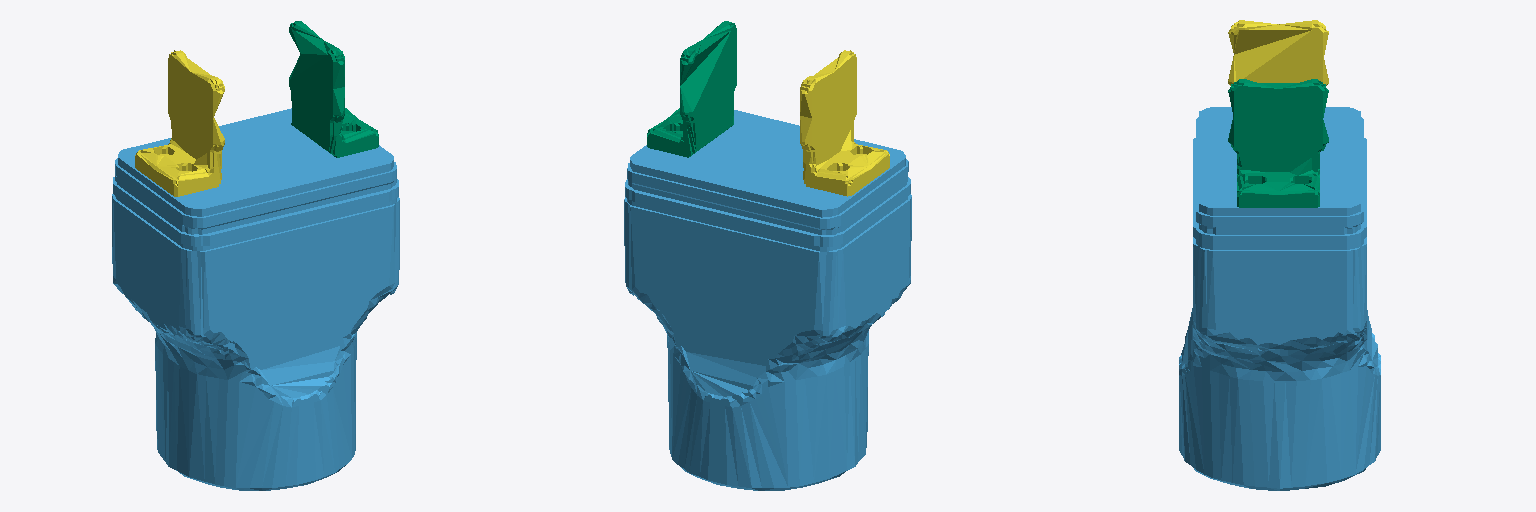
robot.urdf — iiwa14:
<?xml version="1.0" ?>
<!-- =================================================================================== -->
<!-- |    This document was autogenerated by xacro from urdf/iiwa14.urdf.xacro         | -->
<!-- |    EDITING THIS FILE BY HAND IS NOT RECOMMENDED                                 | -->
<!-- =================================================================================== -->
<robot name="iiwa14">
  <link name="base_link"/>
  <joint name="base_joint" type="fixed">
    <origin rpy="0 0 0" xyz="0 0 0"/>
    <parent link="base_link"/>
    <child link="link_0"/>
  </joint>
  <link name="link_0">
    <inertial>
      <origin rpy="0 0 0" xyz="-0.1 0 0.07"/>
      <mass value="5"/>
      <inertia ixx="0.05" ixy="0" ixz="0" iyy="0.06" iyz="0" izz="0.03"/>
    </inertial>
    <visual>
      <origin rpy="0 0 0" xyz="0 0 0"/>
      <geometry>
        <mesh filename="meshes/visual/link_0.stl"/>
      </geometry>
    </visual>
    <collision>
      <origin rpy="0 0 0" xyz="0 0 0"/>
      <geometry>
        <mesh filename="meshes/collision/link_0_s.stl"/>
      </geometry>
    </collision>
    <self_collision_checking>
      <origin rpy="0 0 0" xyz="0 0 0"/>
      <geometry>
        <capsule length="0.25" radius="0.15"/>
      </geometry>
    </self_collision_checking>
  </link>
  <!-- joint between link_0 and link_1 -->
  <joint name="joint_0" type="revolute">
    <parent link="link_0"/>
    <child link="link_1"/>
    <origin rpy="0 0 0" xyz="0 0 0.17"/>
    <axis xyz="0 0 1"/>
    <limit effort="300" lower="-2.9670597283903604" upper="2.9670597283903604" velocity="10"/>
    <safety_controller k_position="100" k_velocity="2" soft_lower_limit="-2.9321531433504737" soft_upper_limit="2.9321531433504737"/>
    <dynamics damping="0.0" friction="0.0"/>
  </joint>
  <link name="link_1">
    <inertial>
      <origin rpy="0 0 0" xyz="0 -0.03 0.12"/>
      <mass value="4"/>
      <inertia ixx="0.1" ixy="0" ixz="0" iyy="0.09" iyz="0" izz="0.02"/>
    </inertial>
    <visual>
      <origin rpy="0 0 0" xyz="0 0 0"/>
      <geometry>
        <mesh filename="meshes/visual/link_1.stl"/>
      </geometry>
    </visual>
    <collision>
      <origin rpy="0 0 0" xyz="0 0 0"/>
      <geometry>
        <mesh filename="meshes/collision/link_1_s.stl"/>
      </geometry>
    </collision>
  </link>
  <!-- joint between link_1 and link_2 -->
  <joint name="joint_1" type="revolute">
    <parent link="link_1"/>
    <child link="link_2"/>
    <origin rpy="1.5707963267948966   0 3.141592653589793" xyz="0 0 0.2025"/>
    <axis xyz="0 0 1"/>
    <limit effort="300" lower="-2.0943951023931953" upper="2.0943951023931953" velocity="10"/>
    <safety_controller k_position="100" k_velocity="2" soft_lower_limit="-2.0594885173533086" soft_upper_limit="2.0594885173533086"/>
    <dynamics damping="0.0" friction="0.0"/>
  </joint>
  <link name="link_2">
    <inertial>
      <origin rpy="0 0 0" xyz="0.0003 0.059 0.042"/>
      <mass value="4"/>
      <inertia ixx="0.05" ixy="0" ixz="0" iyy="0.018" iyz="0" izz="0.044"/>
    </inertial>
    <visual>
      <origin rpy="0 0 0" xyz="0 0 0"/>
      <geometry>
        <mesh filename="meshes/visual/link_2.stl"/>
      </geometry>
    </visual>
    <collision>
      <origin rpy="0 0 0" xyz="0 0 0"/>
      <geometry>
        <mesh filename="meshes/collision/link_2_s.stl"/>
      </geometry>
    </collision>
  </link>
  <!-- joint between link_2 and link_3 -->
  <joint name="joint_2" type="revolute">
    <parent link="link_2"/>
    <child link="link_3"/>
    <origin rpy="1.5707963267948966 0 3.141592653589793" xyz="0 0.2045 0"/>
    <axis xyz="0 0 1"/>
    <limit effort="300" lower="-2.9670597283903604" upper="2.9670597283903604" velocity="10"/>
    <safety_controller k_position="100" k_velocity="2" soft_lower_limit="-2.9321531433504737" soft_upper_limit="2.9321531433504737"/>
    <dynamics damping="0.0" friction="0.0"/>
  </joint>
  <link name="link_3">
    <inertial>
      <origin rpy="0 0 0" xyz="0 0.03 0.13"/>
      <mass value="3"/>
      <inertia ixx="0.08" ixy="0" ixz="0" iyy="0.075" iyz="0" izz="0.01"/>
    </inertial>
    <visual>
      <origin rpy="0 0 0" xyz="0 0 0"/>
      <geometry>
        <mesh filename="meshes/visual/link_3.stl"/>
      </geometry>
    </visual>
    <collision>
      <origin rpy="0 0 0" xyz="0 0 0"/>
      <geometry>
        <mesh filename="meshes/collision/link_3_s.stl"/>
      </geometry>
    </collision>
  </link>
  <!-- joint between link_3 and link_4 -->
  <joint name="joint_3" type="revolute">
    <parent link="link_3"/>
    <child link="link_4"/>
    <origin rpy="1.5707963267948966 0 0" xyz="0 0 0.2155"/>
    <axis xyz="0 0 1"/>
    <limit effort="300" lower="-2.0943951023931953" upper="2.0943951023931953" velocity="10"/>
    <safety_controller k_position="100" k_velocity="2" soft_lower_limit="-2.0594885173533086" soft_upper_limit="2.0594885173533086"/>
    <dynamics damping="0.0" friction="0.0"/>
  </joint>
  <link name="link_4">
    <inertial>
      <origin rpy="0 0 0" xyz="0 0.067 0.034"/>
      <mass value="2.7"/>
      <inertia ixx="0.03" ixy="0" ixz="0" iyy="0.01" iyz="0" izz="0.029"/>
    </inertial>
    <visual>
      <origin rpy="0 0 0" xyz="0 0 0"/>
      <geometry>
        <mesh filename="meshes/visual/link_4.stl"/>
      </geometry>
    </visual>
    <collision>
      <origin rpy="0 0 0" xyz="0 0 0"/>
      <geometry>
        <mesh filename="meshes/collision/link_4_s.stl"/>
      </geometry>
    </collision>
  </link>
  <!-- joint between link_4 and link_5 -->
  <joint name="joint_4" type="revolute">
    <parent link="link_4"/>
    <child link="link_5"/>
    <origin rpy="-1.5707963267948966 3.141592653589793 0" xyz="0 0.1845 0"/>
    <axis xyz="0 0 1"/>
    <limit effort="300" lower="-2.9670597283903604" upper="2.9670597283903604" velocity="10"/>
    <safety_controller k_position="100" k_velocity="2" soft_lower_limit="-2.9321531433504737" soft_upper_limit="2.9321531433504737"/>
    <dynamics damping="0.0" friction="0.0"/>
  </joint>
  <link name="link_5">
    <inertial>
      <origin rpy="0 0 0" xyz="0.0001 0.021 0.076"/>
      <mass value="1.7"/>
      <inertia ixx="0.02" ixy="0" ixz="0" iyy="0.018" iyz="0" izz="0.005"/>
    </inertial>
    <visual>
      <origin rpy="0 0 0" xyz="0 0 0"/>
      <geometry>
        <mesh filename="meshes/visual/link_5.stl"/>
      </geometry>
    </visual>
    <collision>
      <origin rpy="0 0 0" xyz="0 0 0"/>
      <geometry>
        <mesh filename="meshes/collision/link_5_s.stl"/>
      </geometry>
    </collision>
  </link>
  <!-- joint between link_5 and link_6 -->
  <joint name="joint_5" type="revolute">
    <parent link="link_5"/>
    <child link="link_6"/>
    <origin rpy="1.5707963267948966 0 0" xyz="0 0 0.2155"/>
    <axis xyz="0 0 1"/>
    <limit effort="300" lower="-2.0943951023931953" upper="2.0943951023931953" velocity="10"/>
    <safety_controller k_position="100" k_velocity="2" soft_lower_limit="-2.0594885173533086" soft_upper_limit="2.0594885173533086"/>
    <dynamics damping="0.0" friction="0.0"/>
  </joint>
  <link name="link_6">
    <inertial>
      <origin rpy="0 0 0" xyz="0 0.0006 0.0004"/>
      <mass value="1.8"/>
      <inertia ixx="0.025" ixy="0" ixz="0" iyy="0.0136" iyz="0" izz="0.0247"/>
    </inertial>
    <visual>
      <origin rpy="0 0 0" xyz="0 0 0"/>
      <geometry>
        <mesh filename="meshes/visual/link_6.stl"/>
      </geometry>
    </visual>
    <collision>
      <origin rpy="0 0 0" xyz="0 0 0"/>
      <geometry>
        <mesh filename="meshes/collision/link_6_s.stl"/>
      </geometry>
    </collision>
  </link>
  <!-- joint between link_6 and link_7 -->
  <joint name="joint_6" type="revolute">
    <parent link="link_6"/>
    <child link="link_7"/>
    <origin rpy="-1.5707963267948966 3.141592653589793 0" xyz="0 0.081 0"/>
    <axis xyz="0 0 1"/>
    <limit effort="300" lower="-3.0543261909900763" upper="3.0543261909900763" velocity="10"/>
    <safety_controller k_position="100" k_velocity="2" soft_lower_limit="-3.01941960595019" soft_upper_limit="3.01941960595019"/>
    <dynamics damping="0.0" friction="0.0"/>
  </joint>
  <link name="link_7">
    <inertial>
      <origin rpy="0 0 0" xyz="0 0 0.02"/>
      <mass value="0.42857142857142855"/>
      <inertia ixx="0.01" ixy="0" ixz="0" iyy="0.01" iyz="0" izz="0.01"/>
    </inertial>
    <visual>
      <origin rpy="0 0 0" xyz="0 0 0"/>
      <geometry>
        <mesh filename="meshes/visual/link_7.stl"/>
      </geometry>
    </visual>
    <collision>
      <origin rpy="0 0 0" xyz="0 0 0"/>
      <geometry>
        <mesh filename="meshes/collision/link_7_s.stl"/>
      </geometry>
    </collision>
  </link>
  <joint name="joint_ee" type="fixed">
    <parent link="link_7"/>
    <child link="gripper_base_link"/>
    <origin rpy="0 0 0" xyz="0 0 0.045"/>
  </joint>

  <link name="gripper_base_link">
    <inertial>
      <origin rpy="0 0 0" xyz="-4.898915958379213e-05 2.84756960271082e-06 0.06811082379774974"/>
      <mass value="1.2646523179240972"/>
      <inertia ixx="0.001504" ixy="-0.0" ixz="-3e-06" iyy="0.001812" iyz="0.0" izz="0.001053"/>
    </inertial>
    <visual>
      <origin rpy="0 0 0" xyz="0 0 0"/>
      <geometry>
        <mesh filename="meshes/gripper_base_link.stl"/>
      </geometry>
    </visual>
    <collision>
      <origin rpy="0 0 0" xyz="0 0 0"/>
      <geometry>
        <mesh filename="meshes/gripper_base_link.stl"/>
      </geometry>
    </collision>
  </link>
  <link name="right_finger_link">
    <inertial>
      <origin rpy="0 0 0" xyz="0.017874296677847158 0.02949104051991925 0.01523421548622829"/>
      <mass value="0.023219383355922288"/>
      <inertia ixx="6e-06" ixy="-0.0" ixz="1e-06" iyy="5e-06" iyz="-0.0" izz="2e-06"/>
    </inertial>
    <visual>
      <origin rpy="0 0 0" xyz="0.054361 0.029494 -0.12005"/>
      <geometry>
        <mesh filename="meshes/right_finger_link.stl"/>
      </geometry>
    </visual>
    <collision name="right_finger_collision">
      <origin rpy="0 0 0" xyz="0.054361 0.029494 -0.12005"/>
      <geometry>
        <mesh filename="meshes/right_finger_link.stl"/>
      </geometry>
    </collision>
  </link>
  <link name="left_finger_link">
    <inertial>
      <origin rpy="0 0 0" xyz="0.004247703322119739 0.029496959480080673 0.015234215486237948"/>
      <mass value="0.023219383355922288"/>
      <inertia ixx="6e-06" ixy="-0.0" ixz="-1e-06" iyy="5e-06" iyz="0.0" izz="2e-06"/>
    </inertial>
    <visual>
      <origin rpy="0 0 0" xyz="-0.032239 0.029494 -0.12005"/>
      <geometry>
        <mesh filename="meshes/left_finger_link.stl"/>
      </geometry>
    </visual>
    <collision name="left_finger_collision">
      <origin rpy="0 0 0" xyz="-0.032239 0.029494 -0.12005"/>
      <geometry>
        <mesh filename="meshes/left_finger_link.stl"/>
      </geometry>
    </collision>
  </link>
  <!-- <joint name="left_finger_joint" type="prismatic"> -->
  <joint name="left_finger_joint" type="fixed">
    <origin rpy="0 0 0" xyz="0.0 -0.03 0.236"/>
    <parent link="gripper_base_link"/>
    <child link="left_finger_link"/>
    <axis xyz="-1.0 0.0 0.0"/>
    <!-- <limit effort="140" lower="0.0" upper="0.019" velocity="0.45"/> -->
  </joint>
  <!-- <joint name="right_finger_joint" type="prismatic"> -->
  <joint name="right_finger_joint" type="fixed">
    <origin rpy="0 0 0" xyz="-0.022 -0.03 0.236"/>
    <parent link="gripper_base_link"/>
    <child link="right_finger_link"/>
    <axis xyz="1.0 0.0 0.0"/>
    <!-- <limit effort="140" lower="-0.019" upper="0.019" velocity="0.45"/>
    <mimic joint="left_finger_joint" multiplier="1.0"/> -->
  </joint>

  <link name="gripper_base_target">
    <visual>
      <geometry>
        <sphere radius="0.01"/>
      </geometry>
    </visual>
  </link>
  <joint name="gripper_parent_to_target" type="fixed">
    <parent link="gripper_base_link"/>
    <child link="gripper_base_target"/>
    <origin rpy="0 0 1.57079632679" xyz="0 0 0.05"/>
  </joint>

</robot>

--- Facts derived from the render (not from the file) ---
3 views of the same robot in one strip: view 1: azimuth 30°, elevation 25°; view 2: azimuth 150°, elevation 25°; view 3: azimuth 270°, elevation 25° (orthographic).
Robot: iiwa14 — 13 links, 12 joints (7 revolute, 5 fixed); root link base_link; default pose: all joints at 0.
Links seen in each view (by area): view 1: gripper_base_link, left_finger_link, right_finger_link; view 2: gripper_base_link, left_finger_link, right_finger_link; view 3: gripper_base_link, right_finger_link, left_finger_link.
Link boxes in pixels (box(x1,y1,x2,y2)): gripper_base_link: box(112, 108, 399, 490); left_finger_link: box(135, 50, 224, 196); right_finger_link: box(289, 21, 378, 157); gripper_base_link: box(624, 110, 911, 490); left_finger_link: box(800, 50, 889, 196); right_finger_link: box(647, 21, 736, 157); gripper_base_link: box(1179, 107, 1380, 490); right_finger_link: box(1228, 79, 1328, 207); left_finger_link: box(1228, 20, 1328, 85).
Bounding box of the posed robot: 0.09 × 0.072 × 0.1579 m (x, y, z).
3 mesh visuals loaded from 11 distinct referenced files (3 binary STL); not drawn: 8 (reference not matched to a file when rendering).